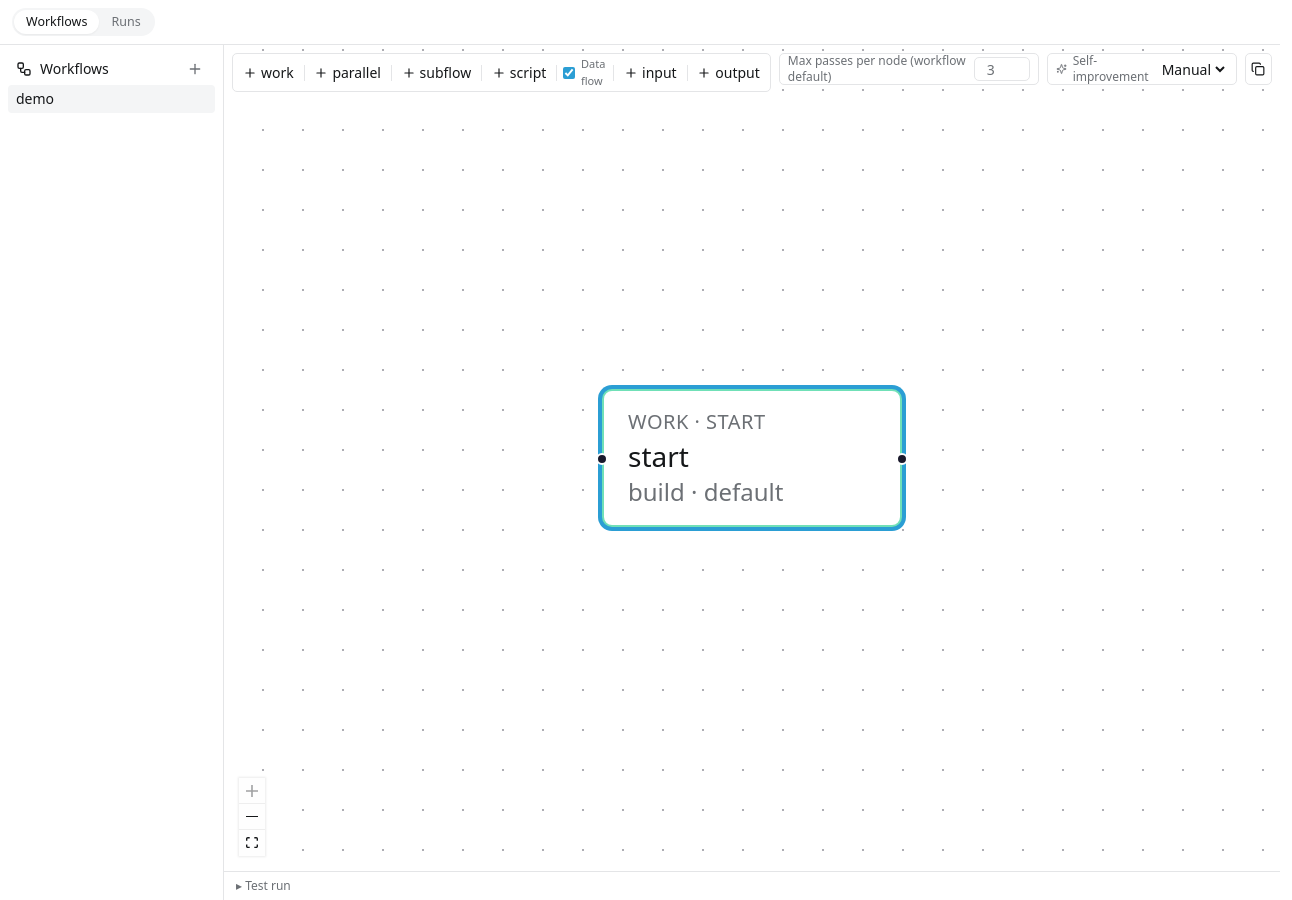
it: WorkflowsView run detail › shows a cancelled banner
Step 1. Click the button "▸ Test run" → (268, 886), box [224,872,1280,899]
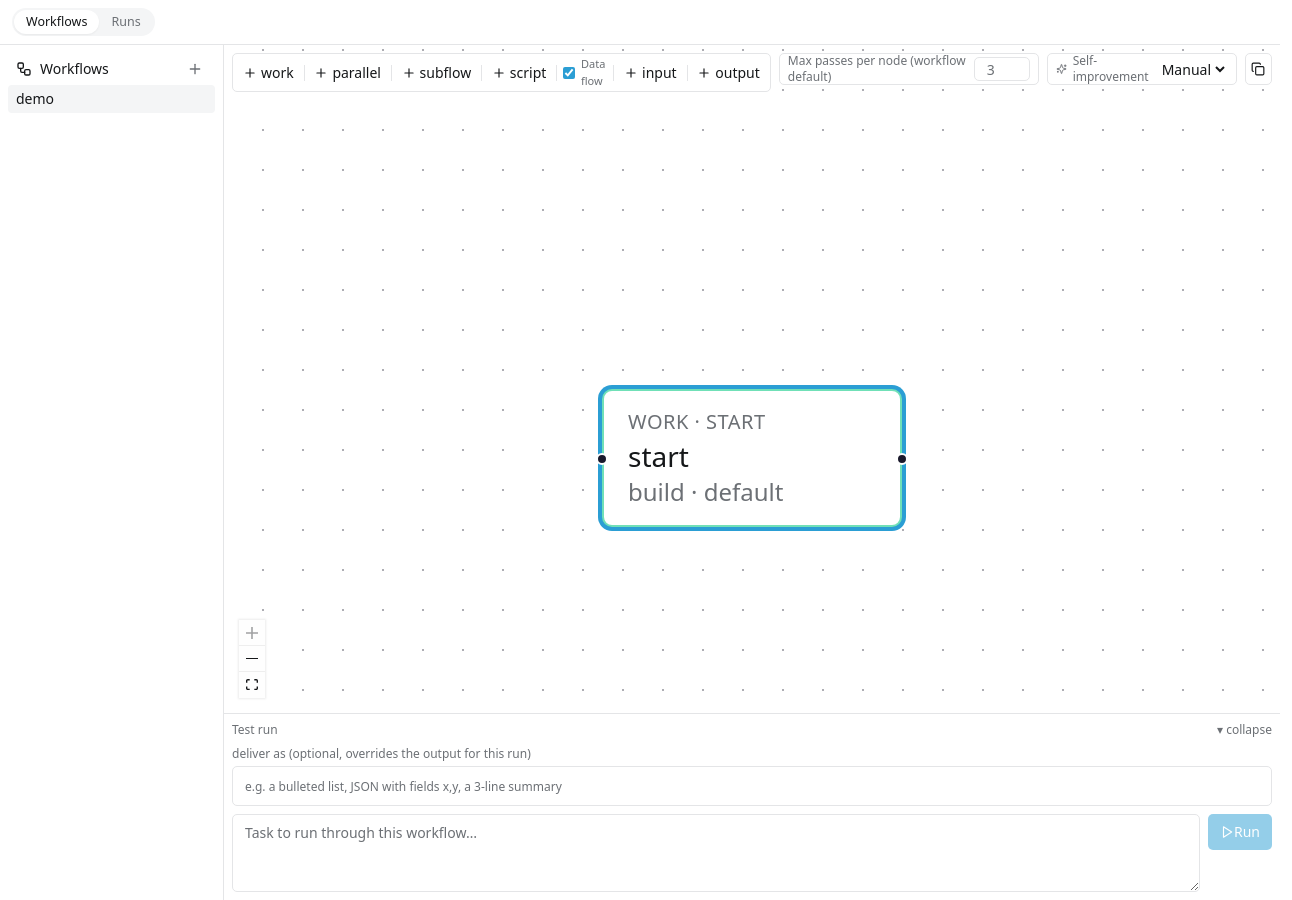
Step 2. Type "do the thing" into the text box with placeholder "Task to run through this workflow…" → (716, 853), box [232,814,1200,892]
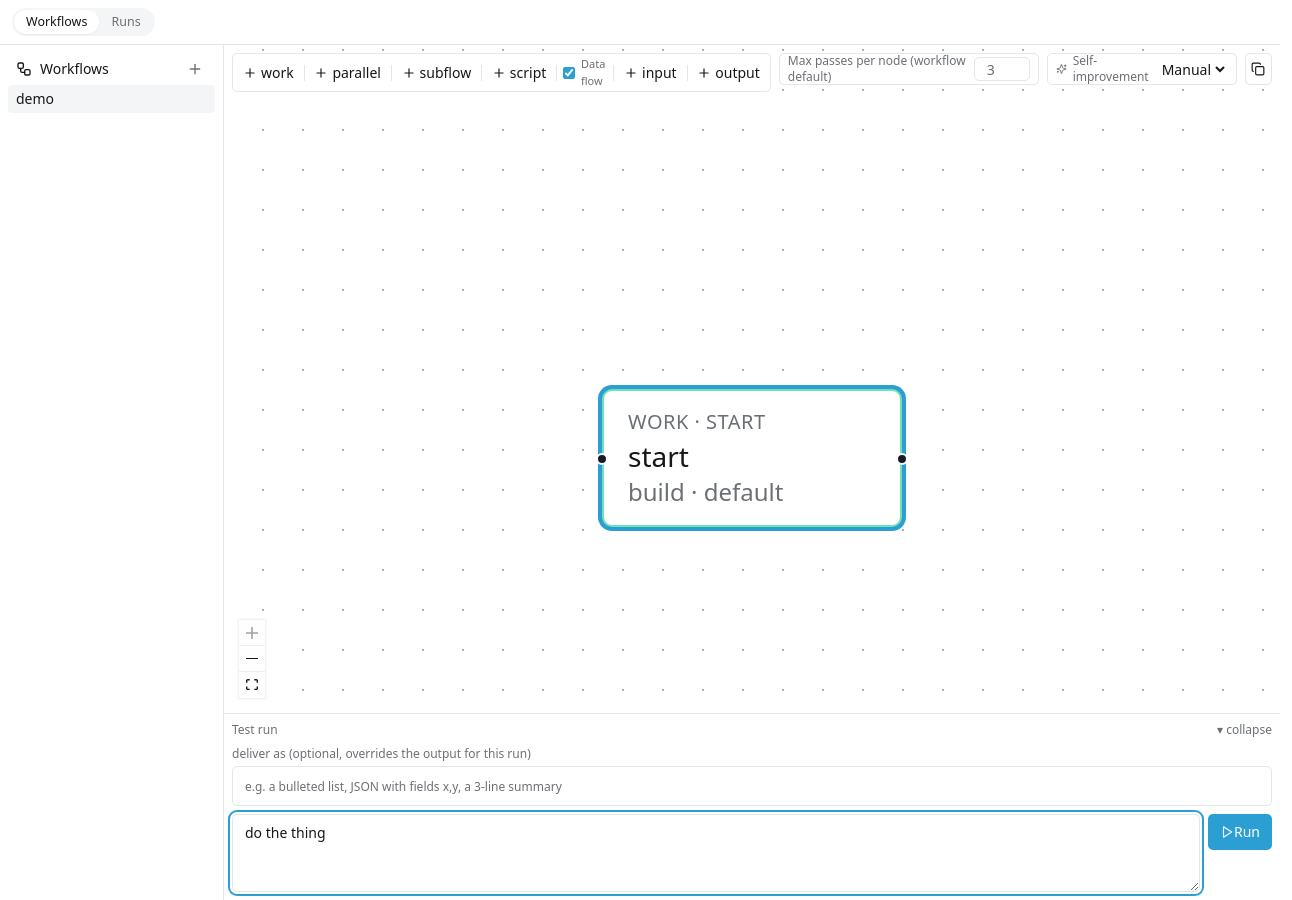
Step 3. Click the button "Run" → (1240, 832), box [1208,814,1272,850]
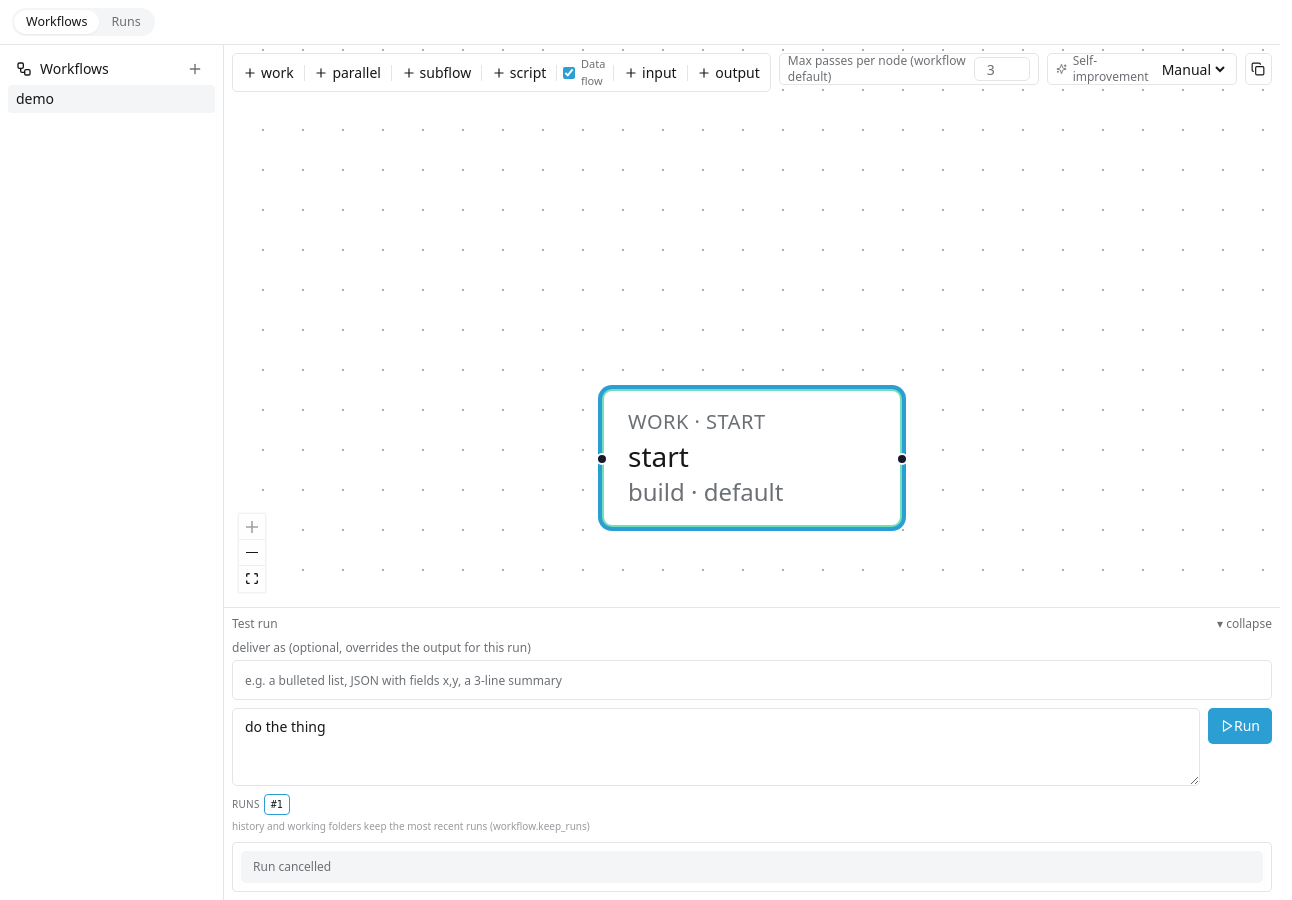
Now the text "Run cancelled" is shown, box [253,858,331,875]
